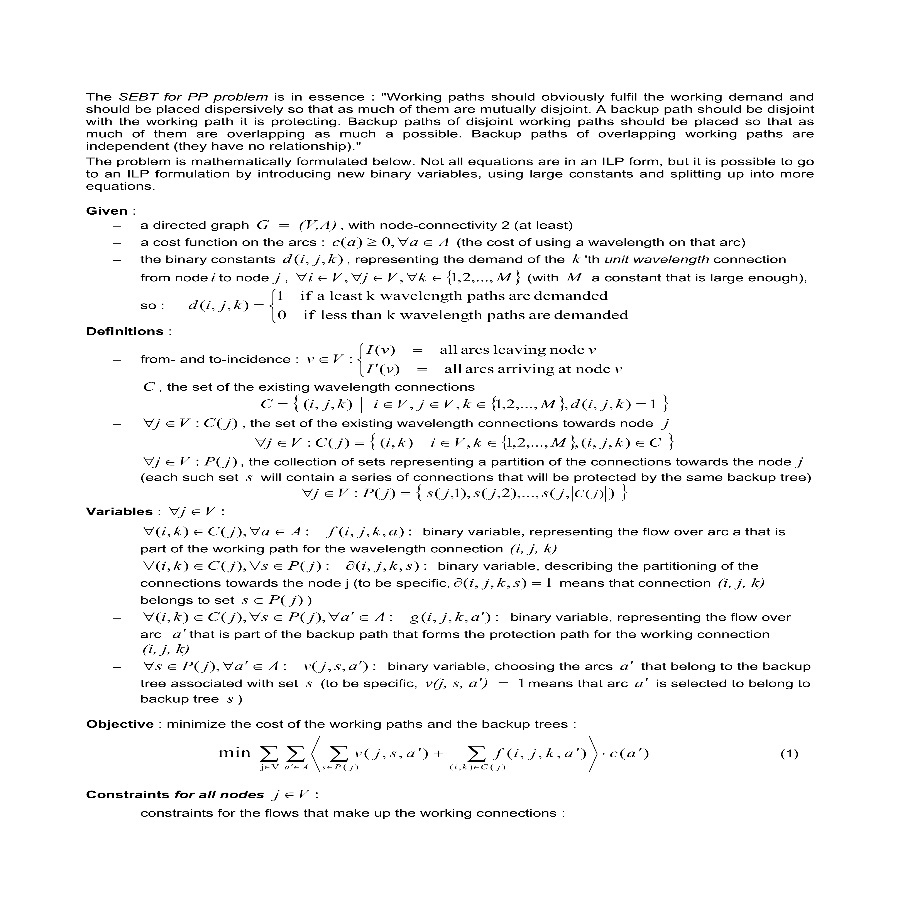eq: (218, 733, 652, 774), (187, 287, 630, 324), (306, 341, 625, 377), (259, 394, 670, 413), (253, 434, 680, 452), (299, 485, 634, 500)
